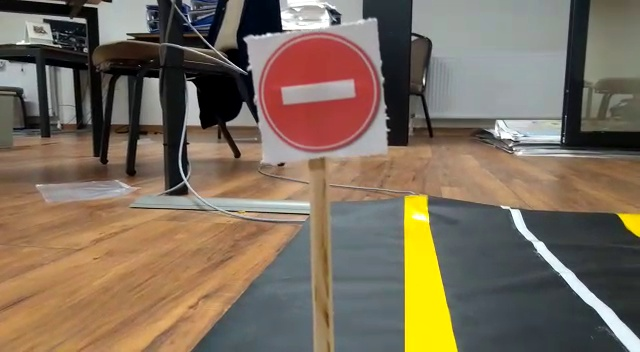girisi_olmayan_yol: (243, 30, 390, 155)
